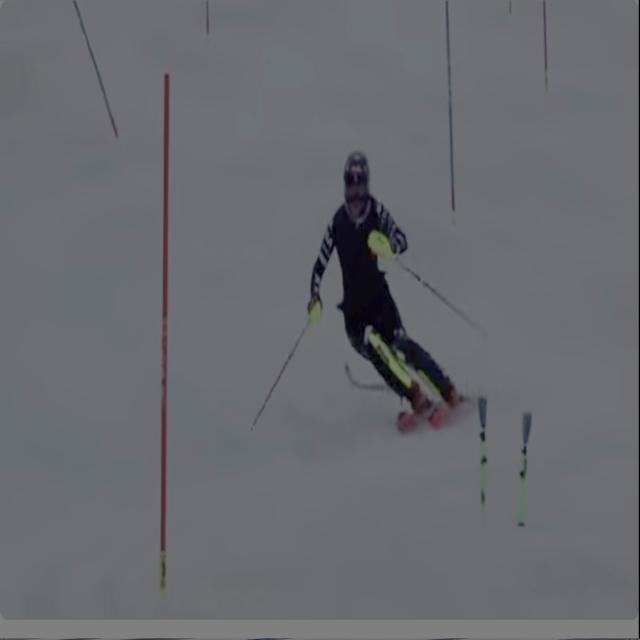gate: (153, 59, 174, 610), (434, 0, 473, 240)
